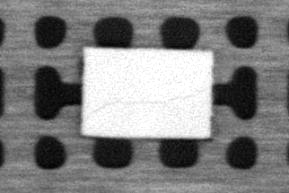DIE_CRACK: (90, 93, 195, 114)
